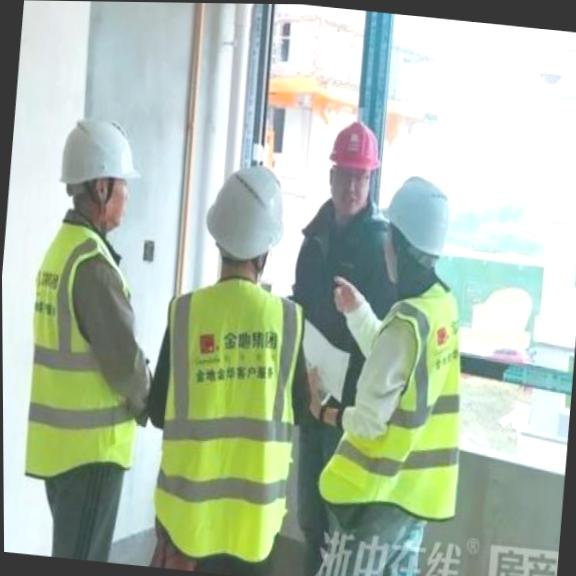safety_vest: (146, 267, 307, 576), (15, 221, 151, 494), (356, 299, 481, 531)
